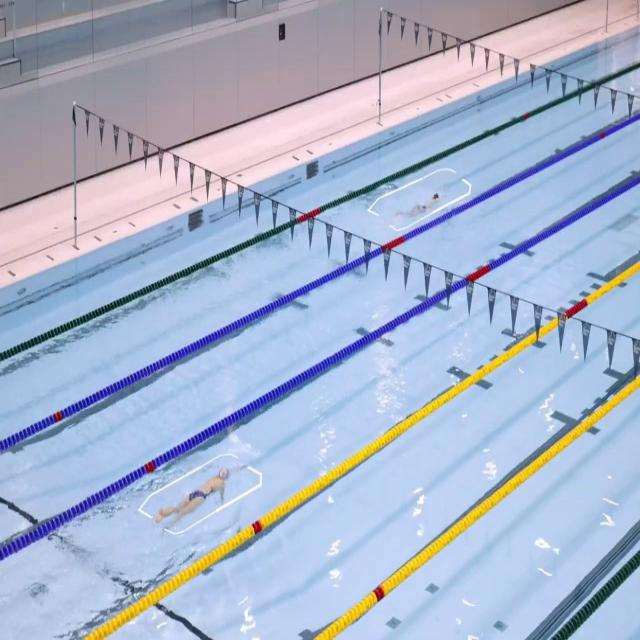Swimming: (156, 464, 231, 535), (394, 190, 442, 218)
